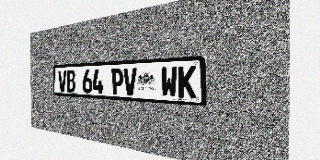4: (93, 69, 103, 94)
6: (82, 69, 92, 93)
B: (67, 70, 75, 92)
K: (178, 65, 196, 98)
P: (111, 68, 123, 95)
V: (124, 68, 137, 95), (58, 70, 67, 92)
W: (161, 66, 177, 98)
